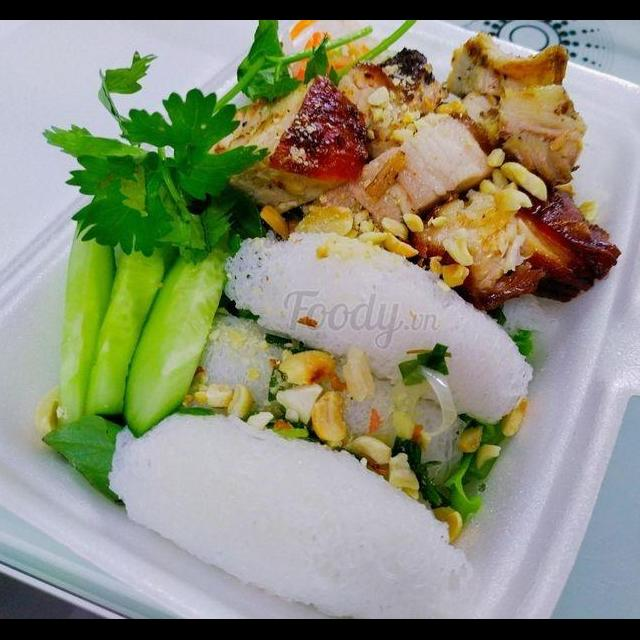banh hoi: (102, 404, 480, 620), (211, 224, 538, 432), (174, 304, 473, 498)
banh hoi heo quay: (0, 49, 640, 619)
thit heo quay: (394, 166, 628, 326), (286, 106, 508, 250), (194, 68, 376, 224), (436, 22, 590, 206)
